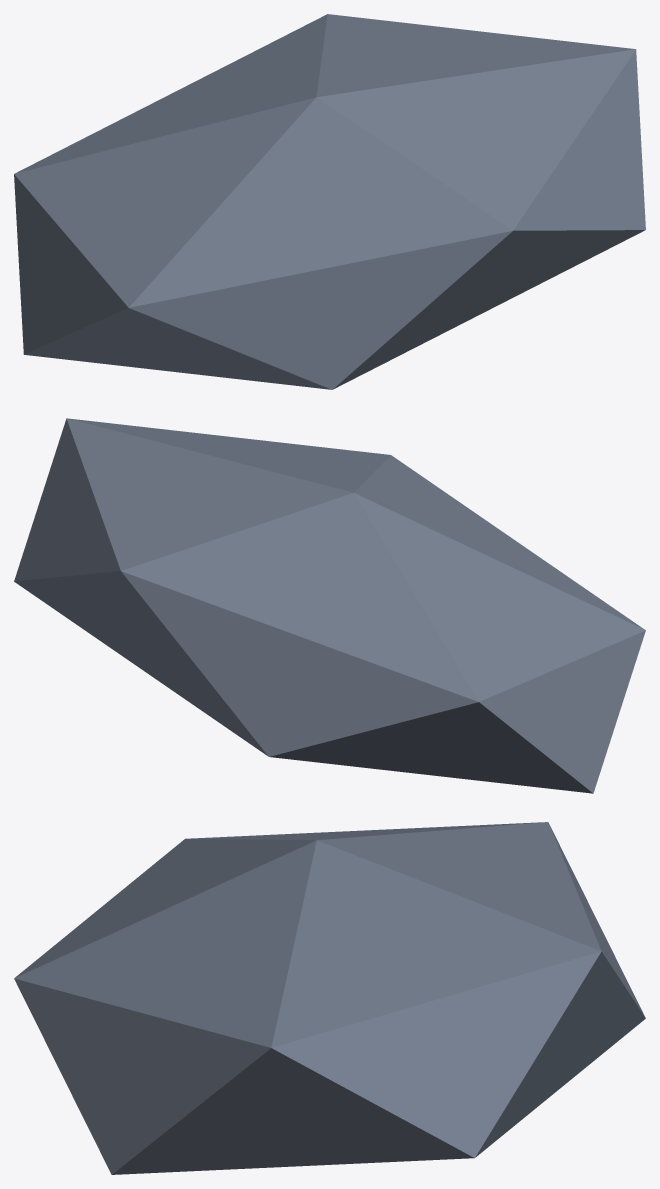
File: EXTG_NorthLooseStone_02.glb
3 renders of one model, top to bottom at view 1: azimuth 30°, elevation 25°; view 2: azimuth 150°, elevation 25°; view 3: azimuth 270°, elevation 25°, orthographic. The views are drawn at different scales.
Visible parts, largest first — view 1: EXTG_NorthLooseStone_02; view 2: EXTG_NorthLooseStone_02; view 3: EXTG_NorthLooseStone_02.
Boxes of the visible parts, x1,y1,x2,y2 form: EXTG_NorthLooseStone_02: [14, 14, 645, 389]; EXTG_NorthLooseStone_02: [14, 418, 645, 793]; EXTG_NorthLooseStone_02: [14, 822, 645, 1174].
Bounding box in the file's own units: 1.02 × 0.389 × 0.7606.
